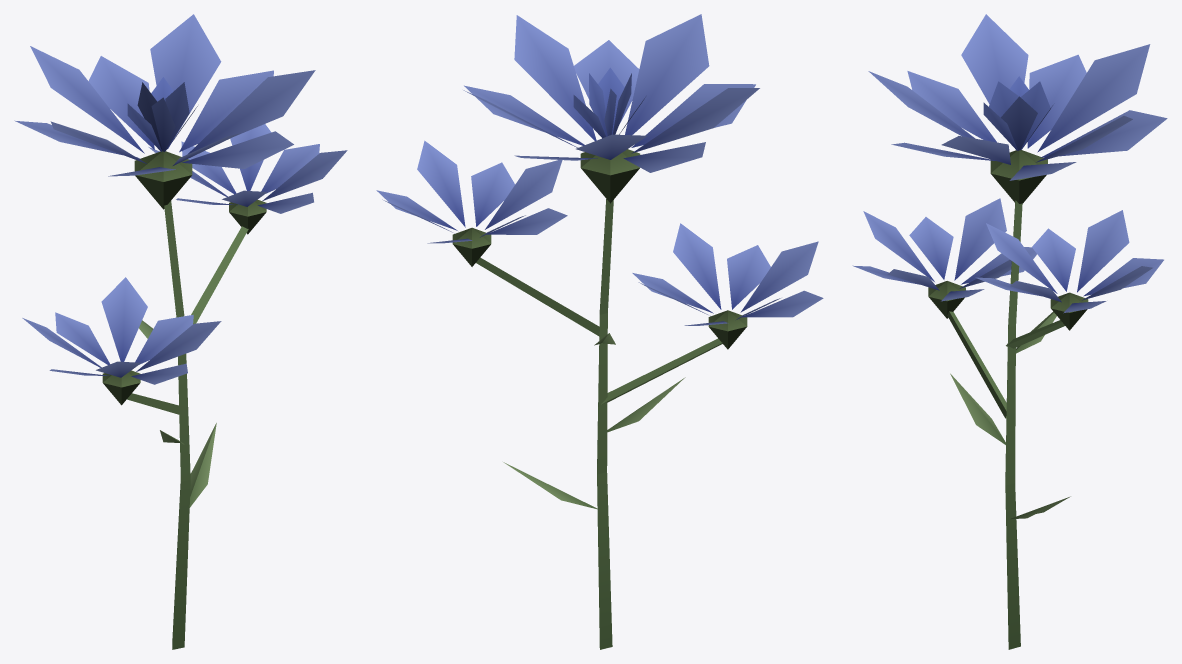
File: flower-cornflower.glb
3 renders of one model, left to right at view 1: azimuth 30°, elevation 25°; view 2: azimuth 150°, elevation 25°; view 3: azimuth 270°, elevation 25°, orthographic. The views are drawn at different scales.
Parts seen in each view (by area): view 1: cornflower; view 2: cornflower; view 3: cornflower.
Boxes of the visible parts, x1=… form: cornflower: x1=14, y1=14, x2=347, y2=649; cornflower: x1=376, y1=14, x2=823, y2=649; cornflower: x1=852, y1=14, x2=1167, y2=649.
Size of the model in its own units: 3.64 by 5.6 by 2.83.
